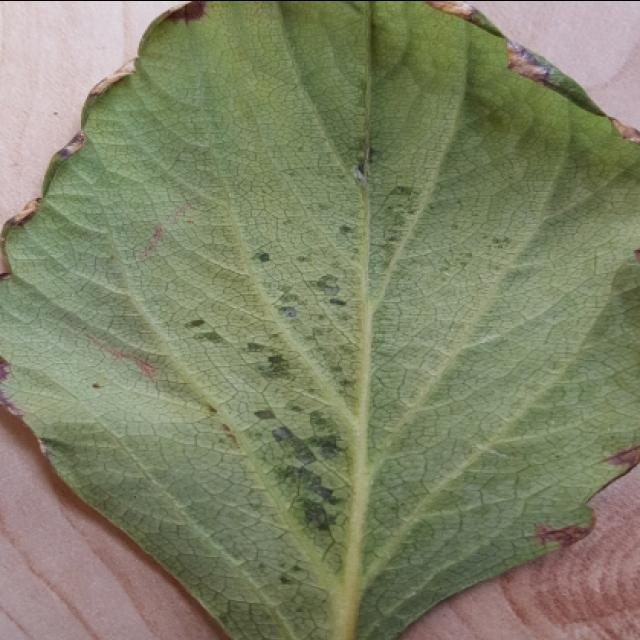Angular Leafspot: (169, 106, 527, 597)
